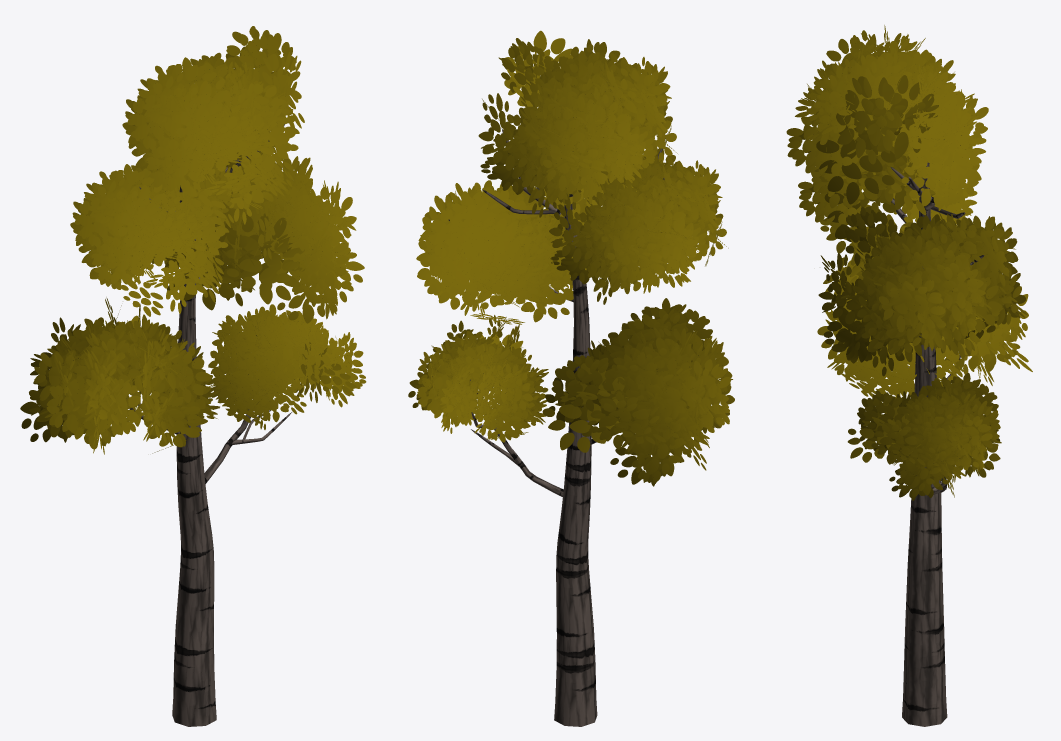
The model's file is birch_tree_1.glb.
3 renders of one model, left to right at view 1: azimuth 30°, elevation 25°; view 2: azimuth 150°, elevation 25°; view 3: azimuth 270°, elevation 25°, orthographic. The views are drawn at different scales.
Visible parts, largest first — view 1: BirchTree_12; view 2: BirchTree_12; view 3: BirchTree_12.
Boxes of the visible parts, bbox=[...] form: BirchTree_12: bbox=[20, 26, 366, 726]; BirchTree_12: bbox=[408, 30, 734, 726]; BirchTree_12: bbox=[786, 25, 1032, 726].
Bounding box in the file's own units: 2.71 × 5.45 × 1.94.
Materials: 2 (2 with a texture image).
